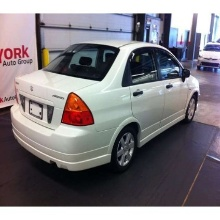no damage: (9, 39, 200, 175)
